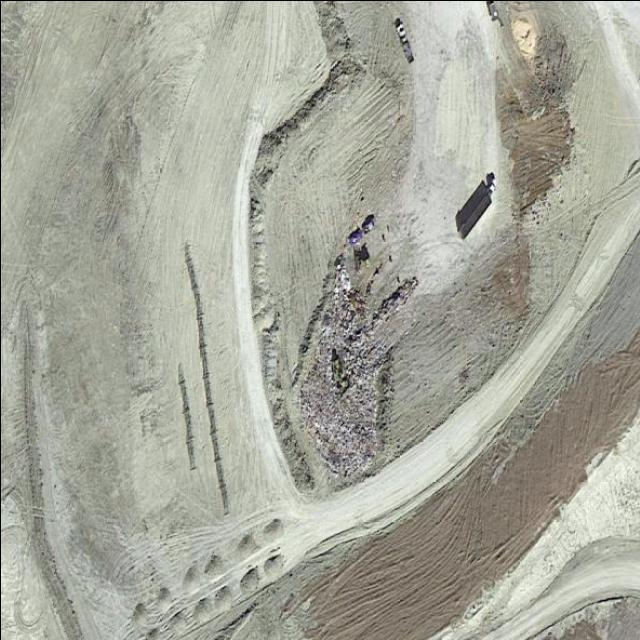dump_site: (282, 250, 412, 487)
